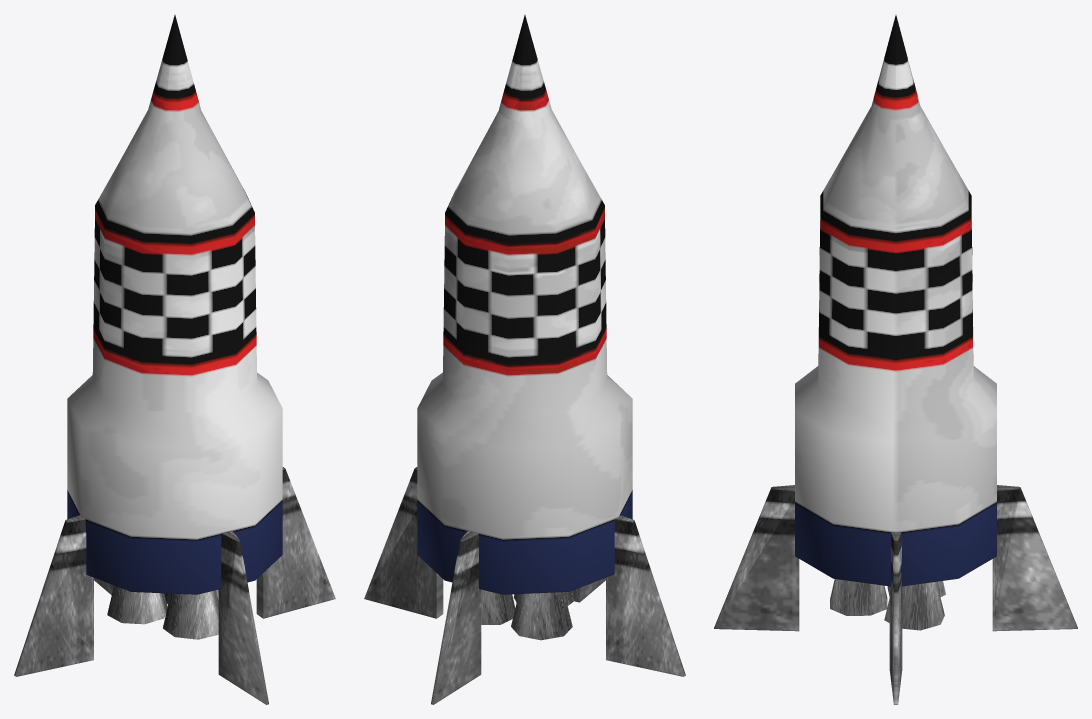
File: rocket.obj
3 views of the same model, side by side, from view 1: azimuth 30°, elevation 25°; view 2: azimuth 150°, elevation 25°; view 3: azimuth 270°, elevation 25° (orthographic).
Visible parts, largest first — view 1: default, wing, engine; view 2: default, wing, engine; view 3: default, wing, engine.
Boxes of the visible parts, <box> form: default: <box>67,15,282,594</box>; wing: <box>14,467,335,704</box>; engine: <box>107,585,218,639</box>; default: <box>417,15,632,594</box>; wing: <box>364,467,685,704</box>; engine: <box>481,589,574,640</box>; default: <box>795,15,996,586</box>; wing: <box>714,485,1077,704</box>; engine: <box>830,579,945,630</box>.
Size of the model in its own units: 4.21 by 7.84 by 4.21.
3 materials, 3 textured.
